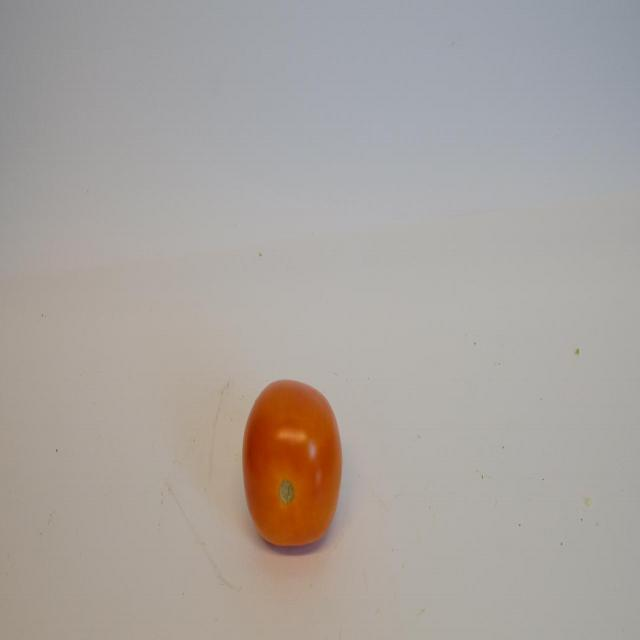tomato: (242, 375, 344, 557)
